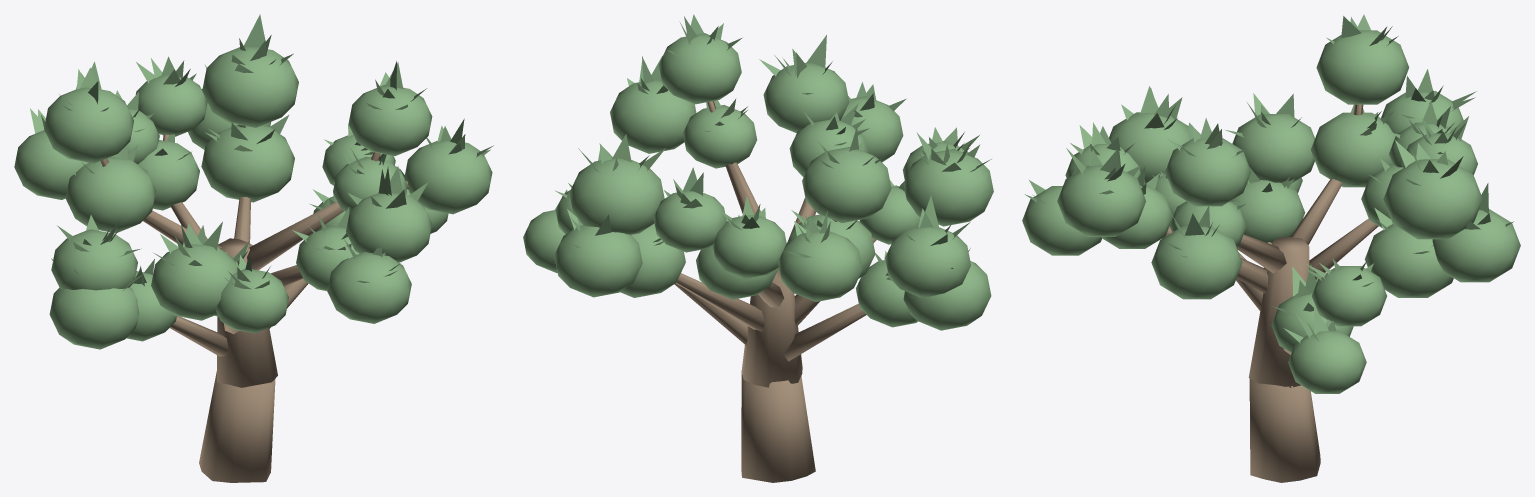
File: oak.glb
The picture shows the model from 3 angles, left to right: view 1: azimuth 30°, elevation 25°; view 2: azimuth 150°, elevation 25°; view 3: azimuth 270°, elevation 25°; orthographic projection.
Parts seen in each view (by area): view 1: org_oak; view 2: org_oak; view 3: org_oak.
Boxes of the visible parts, <box> form: org_oak: <box>14,14,493,482</box>; org_oak: <box>523,14,993,482</box>; org_oak: <box>1022,14,1520,482</box>.
Bounding box in the file's own units: 2.26 × 2.07 × 2.29.
